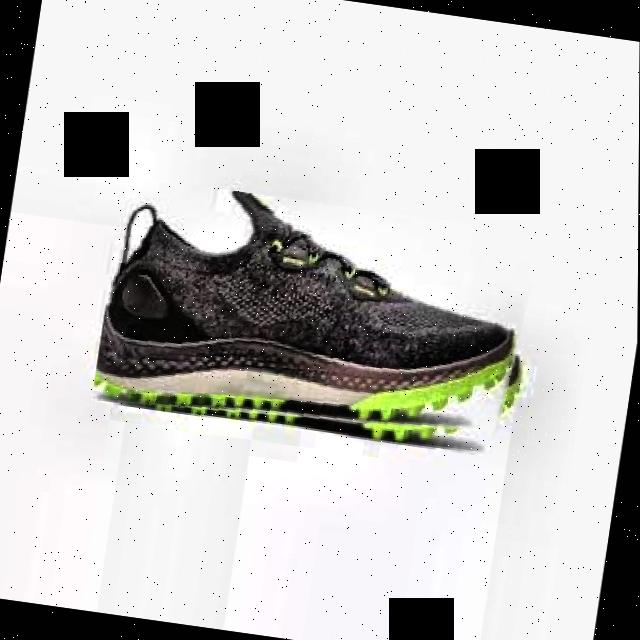shoe: (92, 176, 545, 460)
